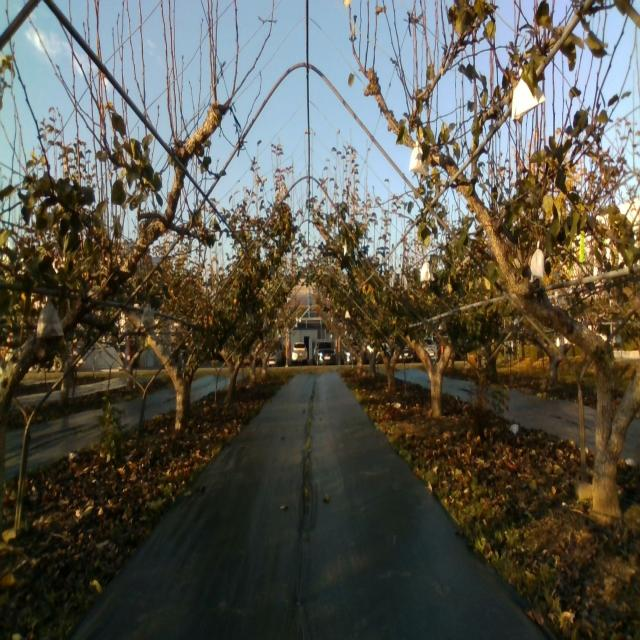pearbags: (512, 68, 545, 122), (37, 300, 64, 340), (408, 140, 428, 177), (530, 240, 545, 283), (420, 258, 434, 282), (142, 304, 155, 329)
